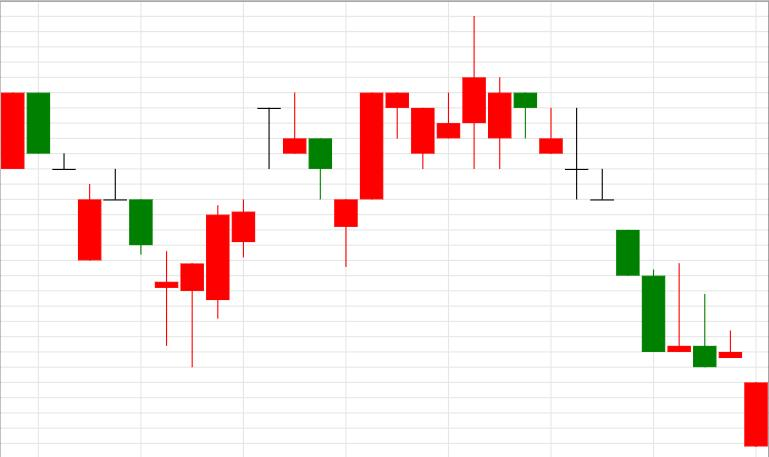hammer_rise: (27, 93, 204, 367)
inverse_hammer_rise: (514, 93, 716, 367)
